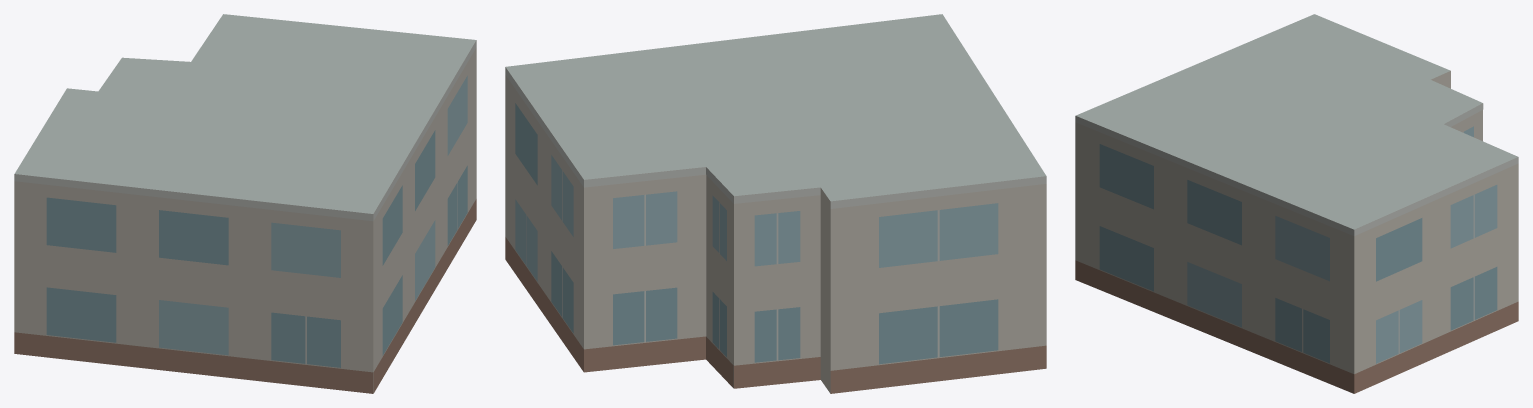
File: survey-upis-32971503.glb
The picture shows the model from 3 angles, left to right: view 1: azimuth 30°, elevation 25°; view 2: azimuth 150°, elevation 25°; view 3: azimuth 270°, elevation 25°; orthographic projection. The views are drawn at different scales.
Parts seen in each view (by area): view 1: survey-upis-32971503.tmp; view 2: survey-upis-32971503.tmp; view 3: survey-upis-32971503.tmp.
Boxes of the visible parts, x1,y1,x2,y2 form: survey-upis-32971503.tmp: (14, 14, 476, 393); survey-upis-32971503.tmp: (505, 14, 1046, 393); survey-upis-32971503.tmp: (1075, 14, 1518, 393).
Size of the model in its own units: 17.19 by 6.1 by 14.92.
